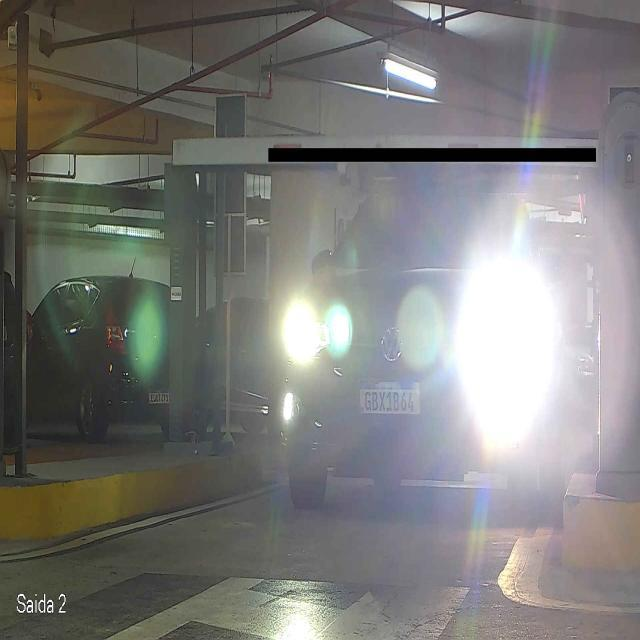mercosul_plate: (358, 378, 421, 416)
